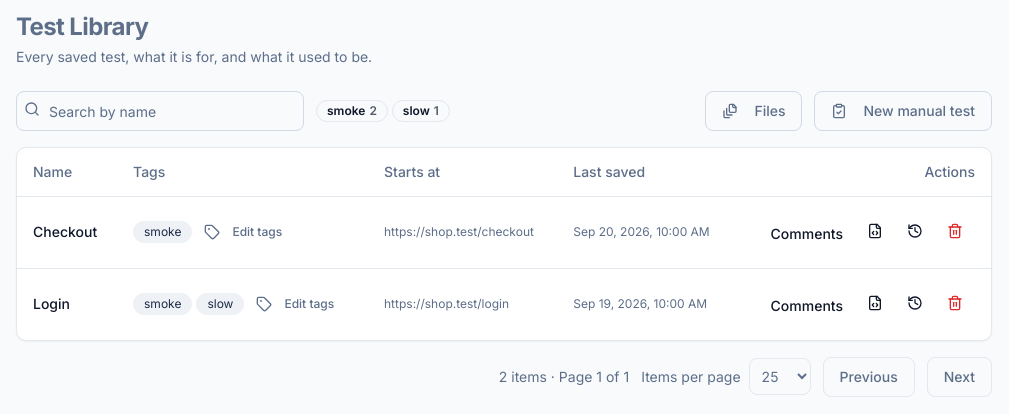
Test case: TestLibraryPage › says a filter matched nothing, rather than looking empty
Expected: the text "Checkout" is shown, [17,196,117,268]
Type "nothing like this" into the field labelled "Search by name" at (160, 111), box [16,91,304,131]
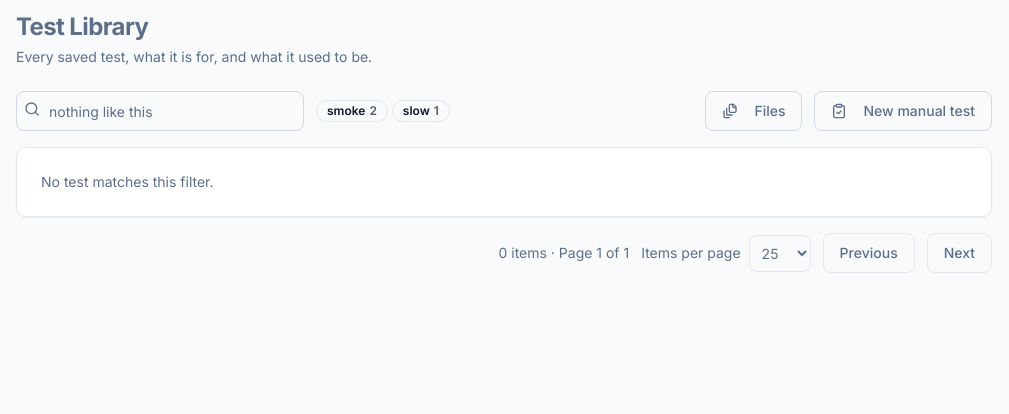
Expected: the text "No test matches this filter." is shown, [41,173,214,190]
